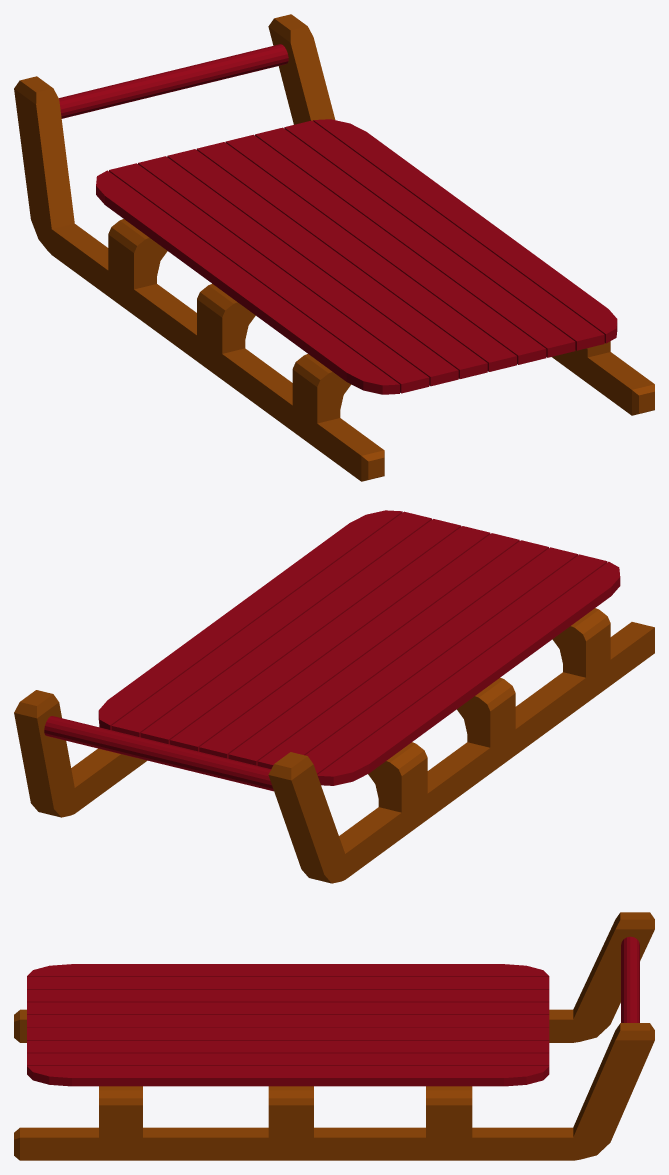
The model's file is RedSled.fbx.
3 views of the same model, one above another, from view 1: azimuth 30°, elevation 25°; view 2: azimuth 150°, elevation 25°; view 3: azimuth 270°, elevation 25° (orthographic). The views are drawn at different scales.
Parts seen in each view (by area): view 1: RedSled; view 2: RedSled; view 3: RedSled.
Part boxes in pixels (box(x1,y1,x2,y2)): RedSled: box(14, 14, 654, 481); RedSled: box(14, 510, 654, 883); RedSled: box(14, 912, 654, 1160).
Size of the model in its own units: 50.42 by 23.07 by 107.
